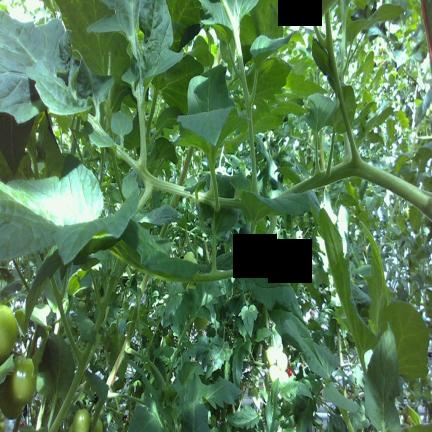6kp_petiole: (116, 326, 143, 369)
MainStem: (106, 323, 135, 387), (177, 147, 194, 186)
tomato: (10, 356, 36, 404), (0, 377, 24, 419), (0, 305, 17, 364), (73, 409, 90, 431), (269, 364, 281, 382), (277, 352, 288, 371), (266, 346, 277, 365), (194, 317, 208, 330), (184, 251, 197, 263), (93, 418, 103, 431), (279, 371, 289, 382), (186, 283, 196, 292), (99, 409, 106, 420), (102, 419, 107, 431), (79, 301, 85, 311), (68, 424, 73, 431)
